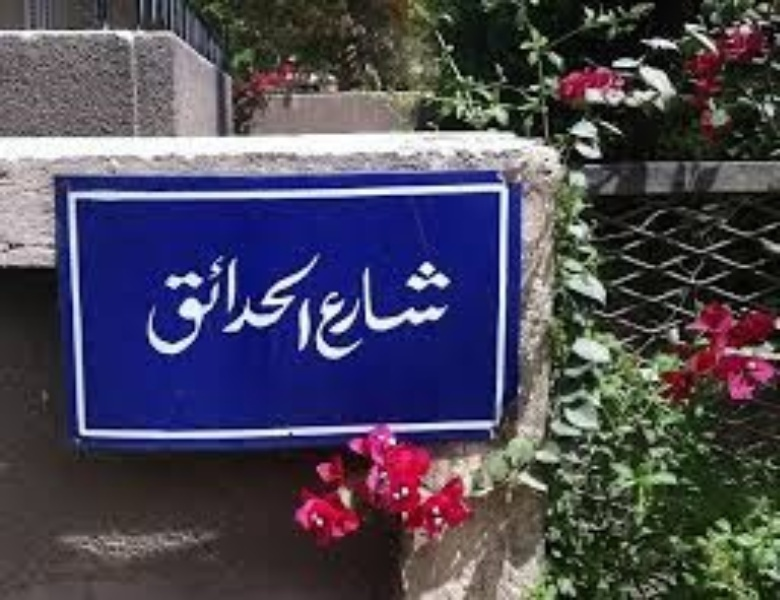text: (161, 250, 176, 357), (177, 250, 192, 357), (193, 250, 208, 357), (209, 250, 224, 357), (225, 250, 240, 357), (241, 250, 256, 357), (257, 250, 272, 357), (273, 250, 288, 357), (289, 250, 304, 357), (305, 250, 320, 357), (321, 259, 336, 363), (337, 259, 352, 363), (353, 259, 368, 363), (369, 259, 384, 363), (385, 259, 400, 363), (401, 259, 416, 363), (417, 259, 432, 363), (433, 259, 448, 363), (153, 250, 160, 357), (449, 259, 454, 363), (317, 259, 320, 363)
